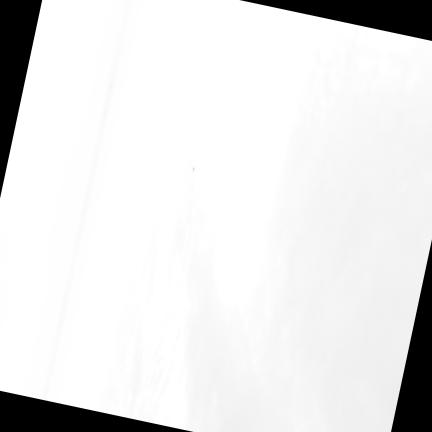Shahed: (191, 167, 194, 174)
